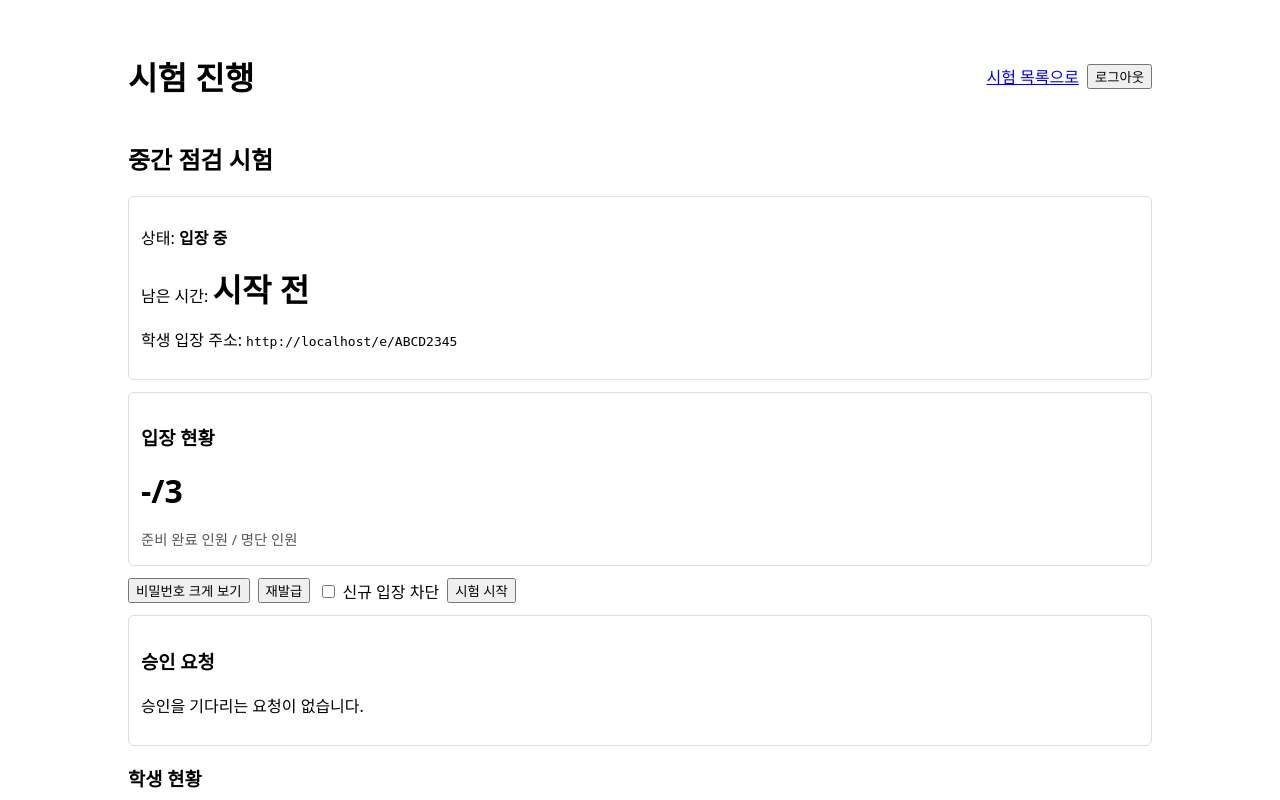
운영 화면 › 비밀번호 크게 보기: 전체 화면 오버레이에 비밀번호를 보여 주고 닫을 수 있다
Expected: the text "482913" is not shown
Click the button "비밀번호 크게 보기".
click(189, 591)  # box x1=128 y1=578 x2=250 y2=603
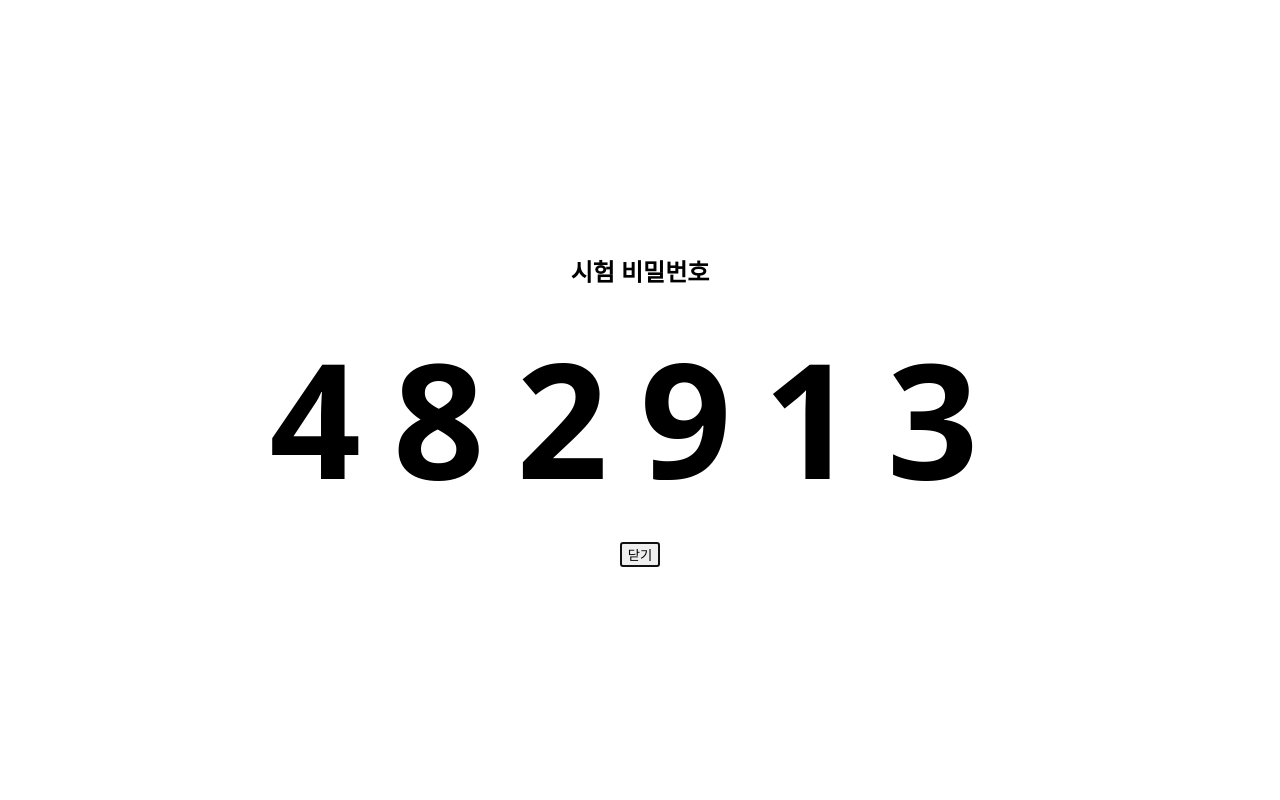
Result: the text "482913" is shown at x1=269 y1=308 x2=1010 y2=526
Click the button "닫기".
click(640, 554)  # box x1=620 y1=542 x2=660 y2=567
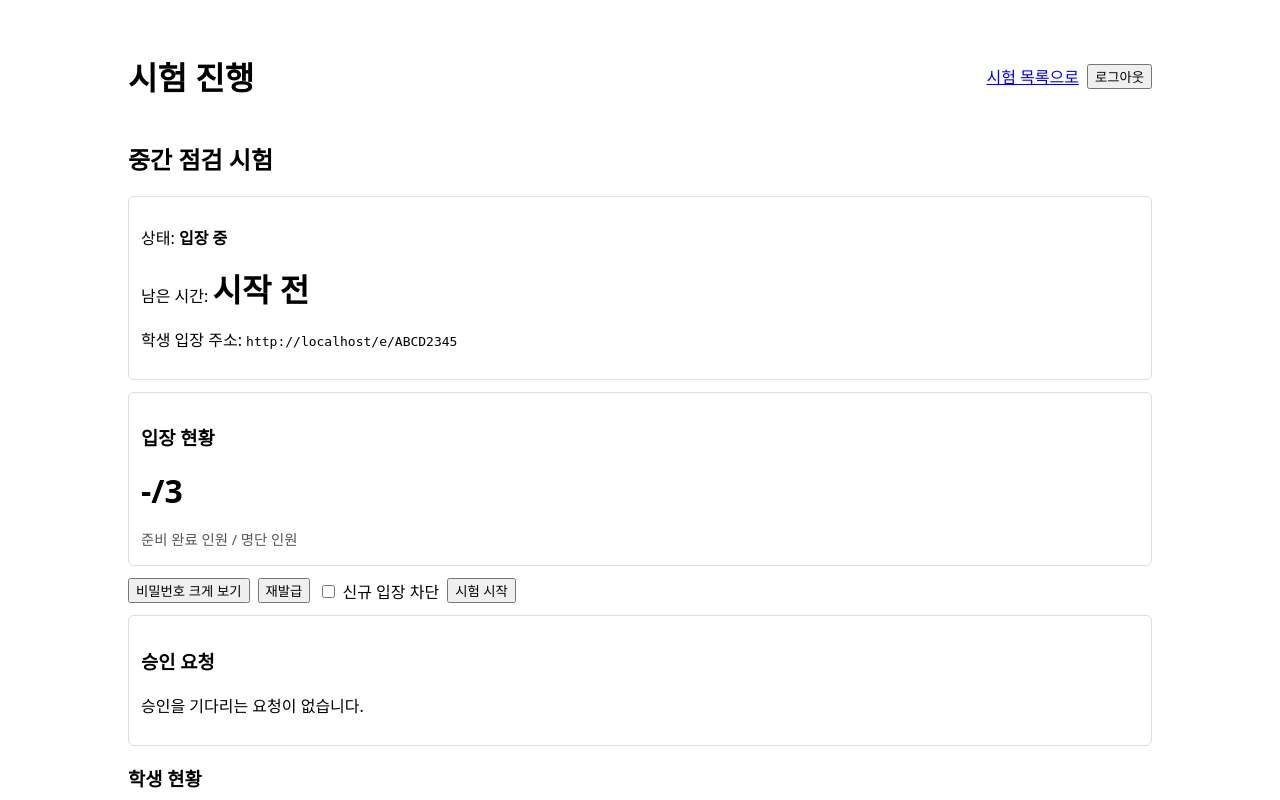
Result: the dialog is gone
